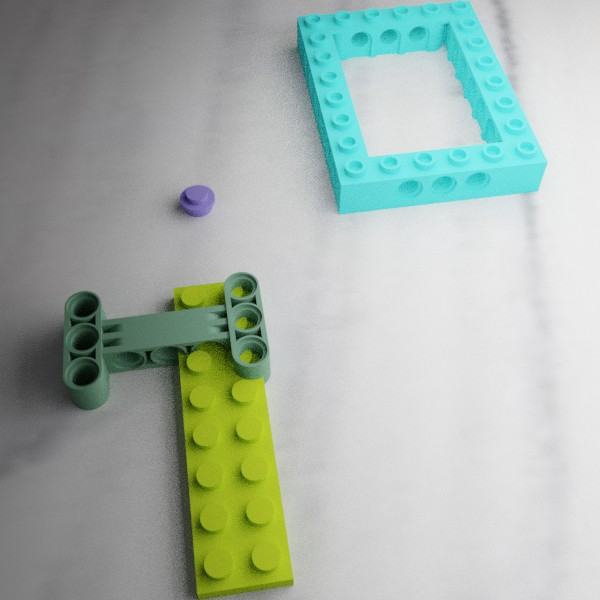lego: (297, 0, 548, 214), (173, 278, 293, 600), (62, 271, 270, 410), (179, 185, 215, 217)
